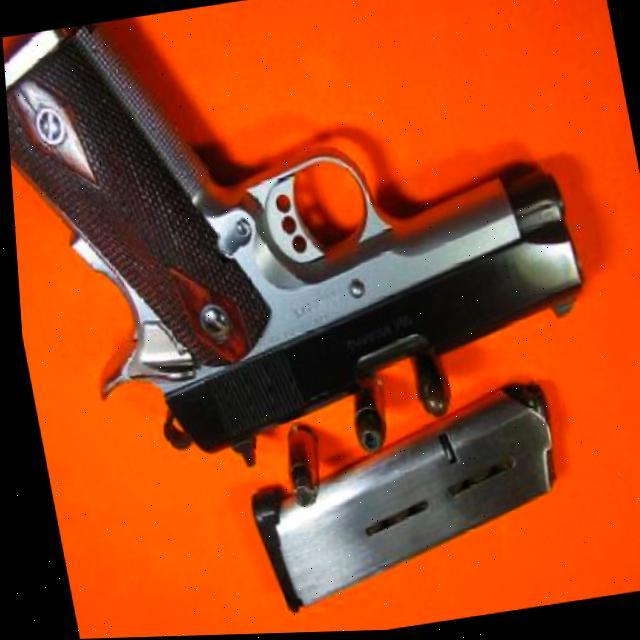gun: (0, 0, 606, 499)
